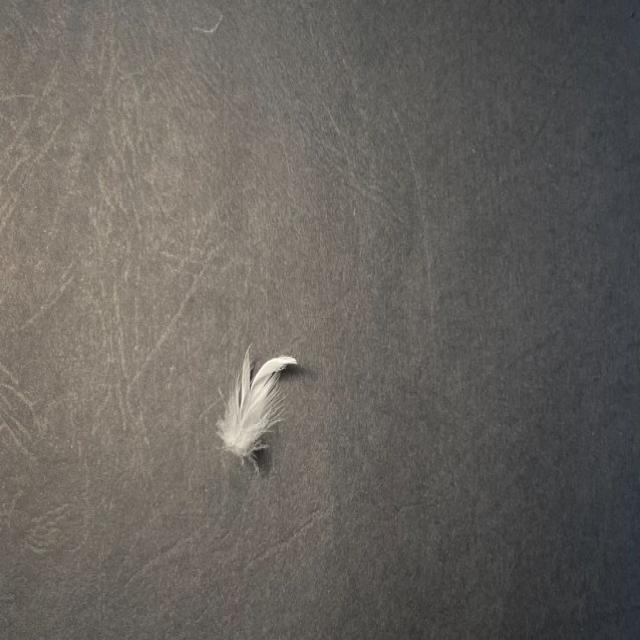feather: (212, 341, 300, 464)
